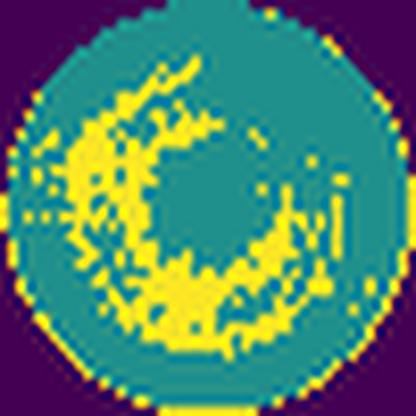Donut: (49, 44, 361, 374)
